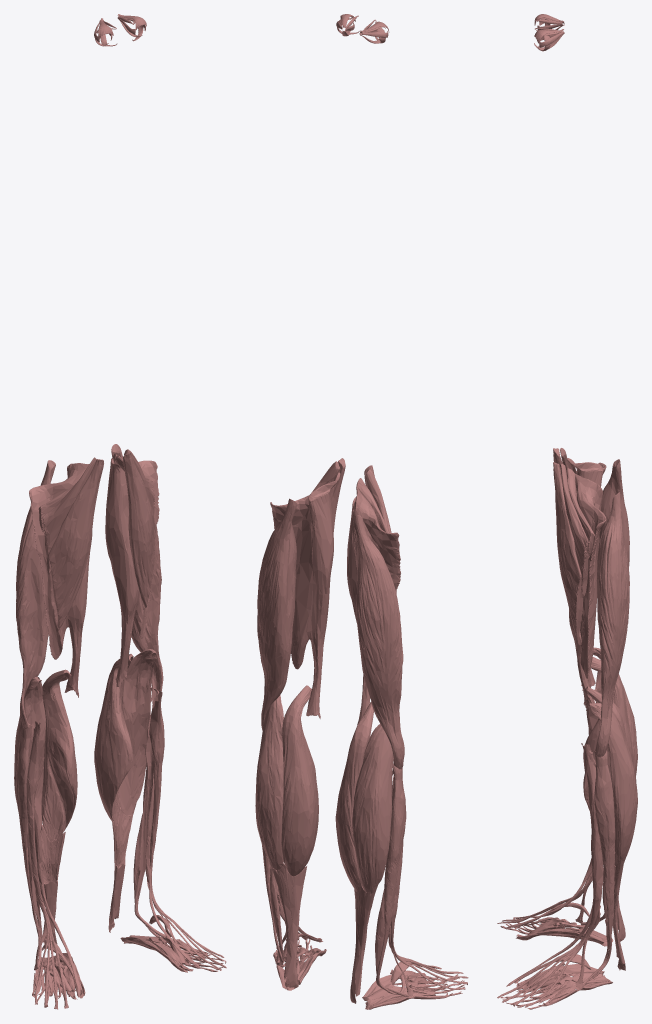
Rendered from muscular-00.glb.
The picture shows the model from 3 angles, left to right: view 1: azimuth 30°, elevation 25°; view 2: azimuth 150°, elevation 25°; view 3: azimuth 270°, elevation 25°; orthographic projection.
Visible parts, largest first — view 1: FJ1403M, FJ1397, FJ1395, FJ1403, FJ1402, FJ1397M, FJ1394M, FJ1402M, FJ1406, FJ1406M, FJ1395M, FJ1394 (+9 smaller); view 2: FJ1395, FJ1403M, FJ1395M, FJ1397M, FJ1394, FJ1394M, FJ1397, FJ1403, FJ1410, FJ1405M, FJ1405, FJ1406 (+3 smaller); view 3: FJ1395M, FJ1403M, FJ1394M, FJ1406M, FJ1410M, FJ1402M, FJ1401M, FJ1395, FJ1397, FJ1397M, FJ1405M, FJ1403 (+8 smaller).
Part boxes in pixels (x1,y1,x2,y2): FJ1403M: (105,453,159,687); FJ1397: (41,669,77,841); FJ1395: (16,460,55,728); FJ1403: (29,463,92,697); FJ1402: (48,459,103,628); FJ1397M: (94,654,133,825); FJ1394M: (118,649,157,815); FJ1402M: (123,451,155,607); FJ1406: (26,721,67,1009); FJ1406M: (149,690,226,970); FJ1395M: (111,444,163,702); FJ1394: (14,676,45,830); FJ1395: (352,515,404,775); FJ1403M: (270,480,337,718); FJ1395M: (257,498,297,730); FJ1397M: (281,685,318,876); FJ1394: (352,724,393,893); FJ1394M: (255,695,283,870); FJ1397: (335,702,373,891); FJ1403: (347,485,400,724); FJ1410: (376,764,408,994); FJ1405M: (266,856,306,988); FJ1405: (350,882,378,1003); FJ1406: (390,767,468,989); FJ1395M: (595,491,629,757); FJ1403M: (569,473,606,710); FJ1394M: (589,703,637,866); FJ1406M: (497,743,603,1007); FJ1410M: (556,749,615,982); FJ1402M: (553,462,583,645); FJ1401M: (560,464,588,595); FJ1395: (595,459,629,688); FJ1397: (583,657,632,771); FJ1397M: (582,686,627,866); FJ1405M: (612,858,625,970); FJ1403: (573,462,606,687).
Size of the model in its own units: 0.3321 by 1.61 by 0.2179.
